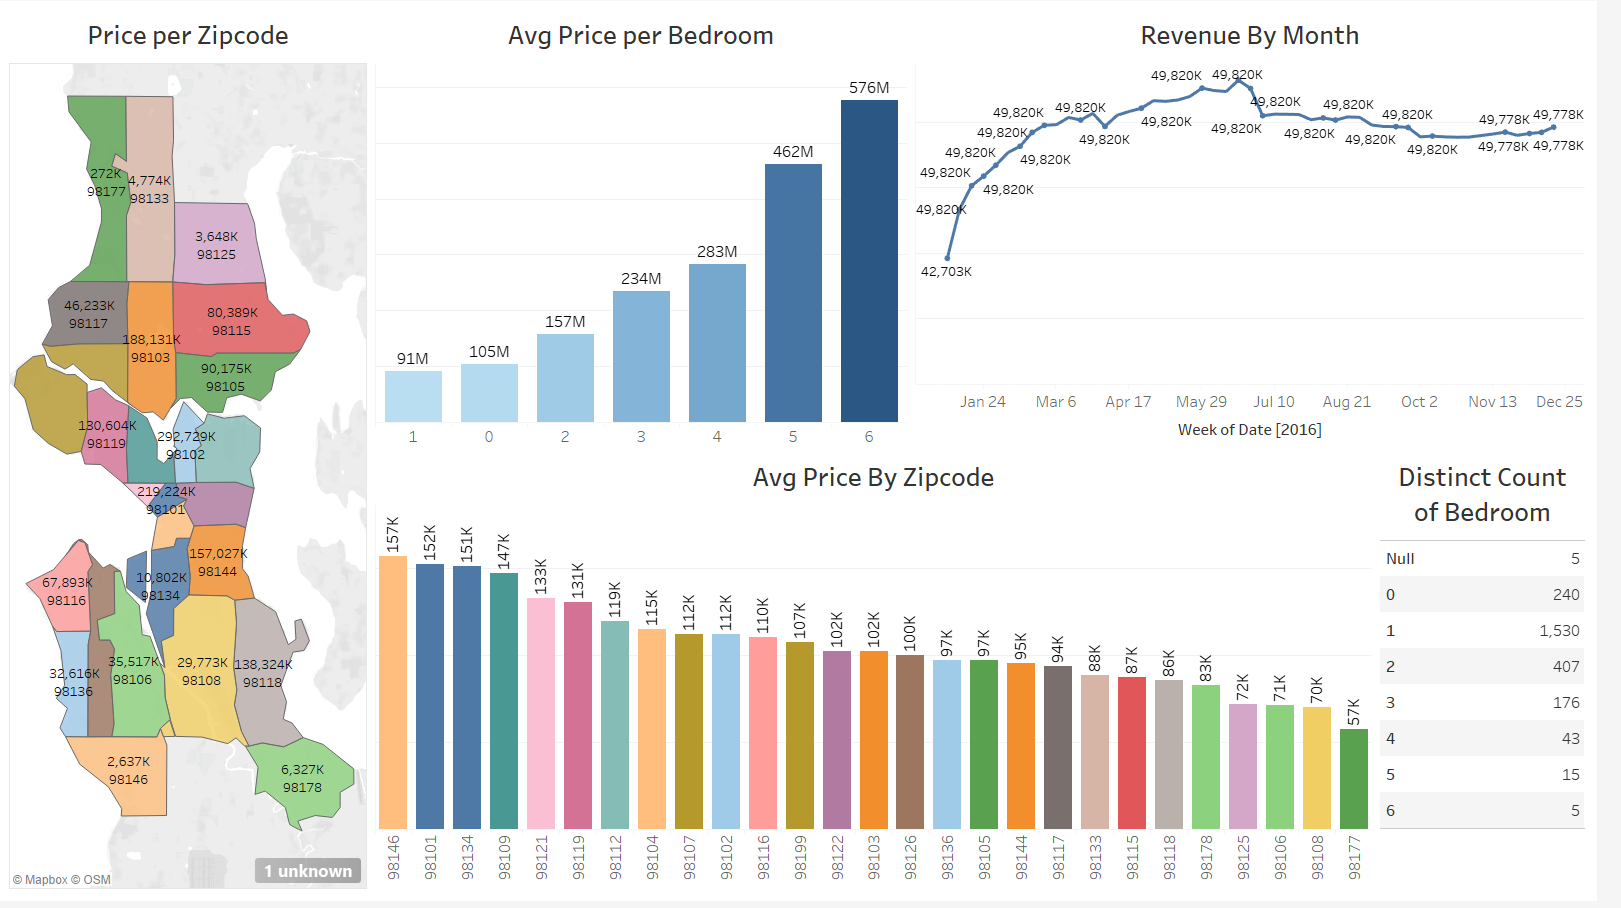

What the dashboard file says about the page in this screenshot:
{"tool":"tableau","page":{"name":"Dashboard 1","canvas":[1600,900],"ordinal":0},"visuals":[{"type":"worksheet","title":"Sheet 2","mark":"Multipolygon","box":[8,8,365.9,884]},{"type":"worksheet","title":"Sheet 4","mark":"Automatic","rows":["price"],"cols":["bedrooms"],"box":[373.9,8,540,442]},{"type":"worksheet","title":"Sheet 3","mark":"Automatic","rows":["price (Calendar)"],"cols":["date"],"box":[913.9,8,678.1,442]},{"type":"worksheet","title":"Sheet 1","mark":"Automatic","rows":["price"],"cols":["zipcode"],"box":[373.9,450,1005,442]},{"type":"worksheet","title":"Sheet 5","mark":"Automatic","rows":["bedrooms"],"box":[1379,450,213,442]}]}

Visuals, with their boxes in screenshot pixels (x1, y1, x2, y2), scaled from the page's 1600x900 canvas onto the 1621x908 screenshot:
"Sheet 2" worksheet (Multipolygon marks): BBox(8, 8, 379, 900)
"Sheet 4" worksheet: BBox(379, 8, 926, 454)
"Sheet 3" worksheet: BBox(926, 8, 1613, 454)
"Sheet 1" worksheet: BBox(379, 454, 1397, 900)
"Sheet 5" worksheet: BBox(1397, 454, 1613, 900)
